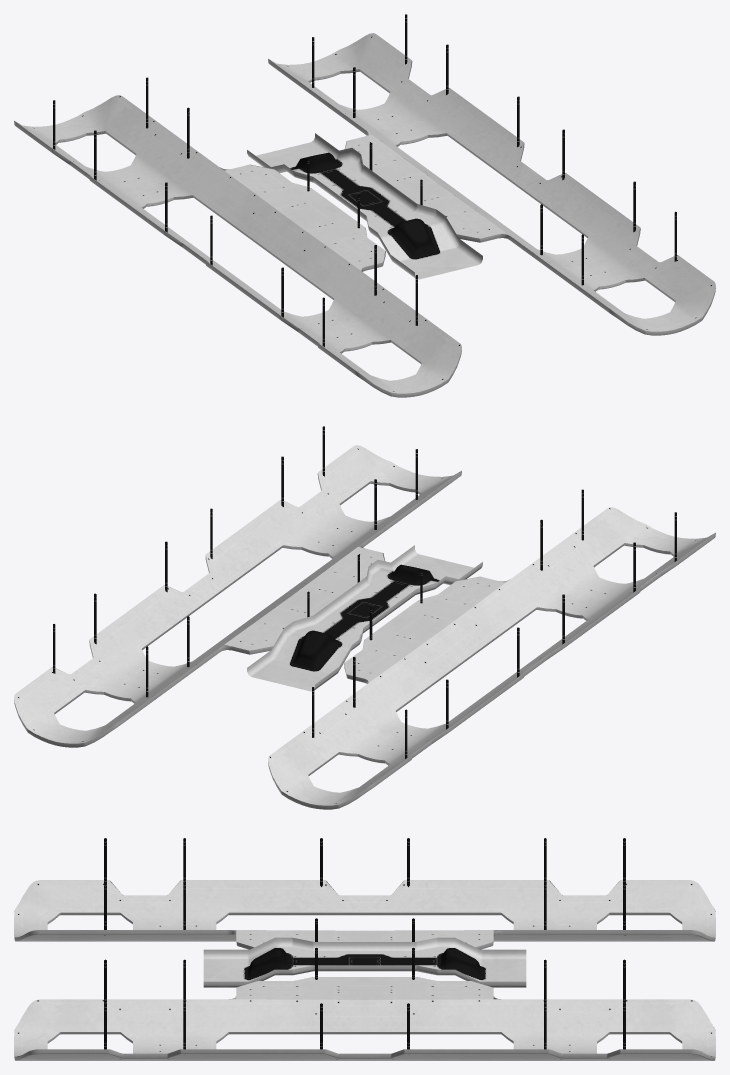
Rendered from HallwayStraightCeiling.fbx.
3 renders of one model, top to bottom at view 1: azimuth 30°, elevation 25°; view 2: azimuth 150°, elevation 25°; view 3: azimuth 270°, elevation 25°, orthographic. The views are drawn at different scales.
Parts seen in each view (by area): view 1: HallwayStraightCeiling001; view 2: HallwayStraightCeiling001; view 3: HallwayStraightCeiling001.
Part boxes in pixels (x1=…): HallwayStraightCeiling001: x1=14, y1=14, x2=715, y2=397; HallwayStraightCeiling001: x1=14, y1=426, x2=715, y2=809; HallwayStraightCeiling001: x1=14, y1=838, x2=715, y2=1060.
Bounding box in the file's own units: 431 × 85.99 × 756.
